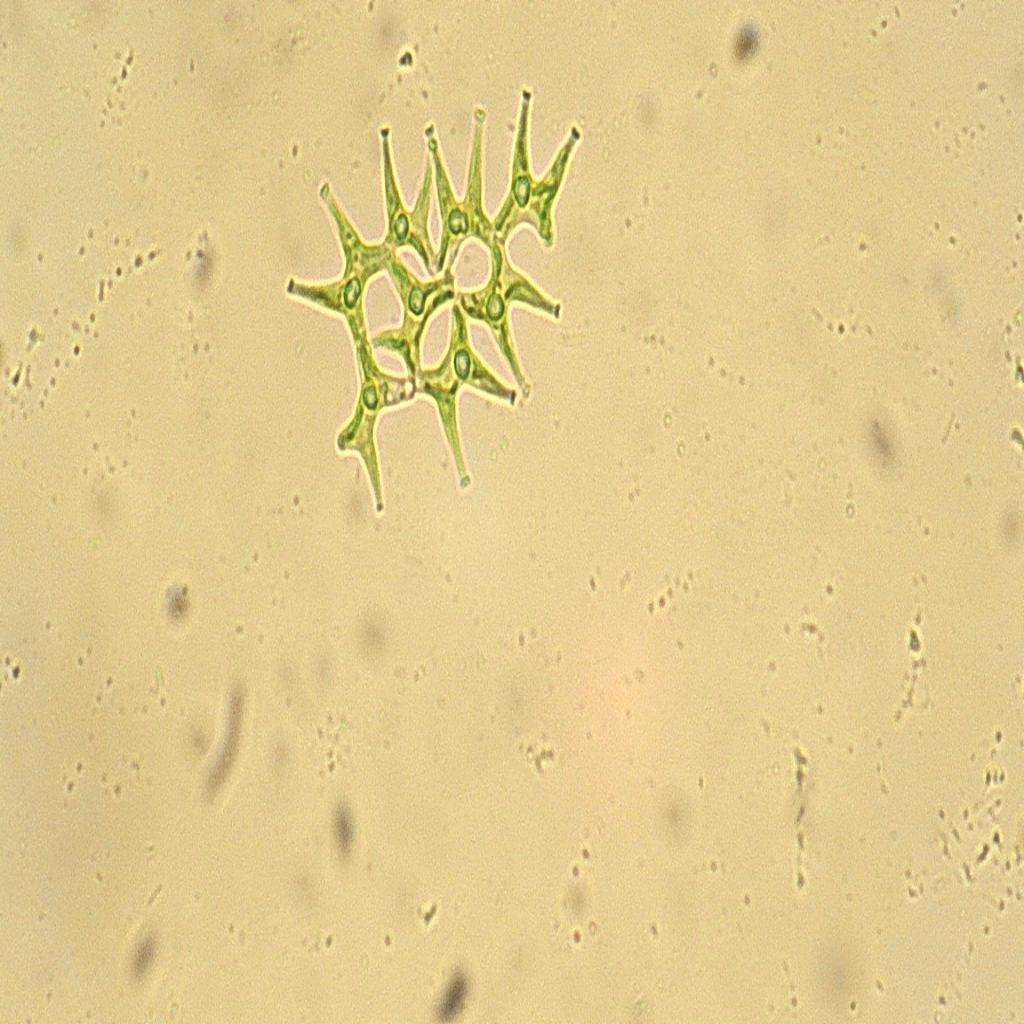Pediastrum_CFI: (276, 79, 616, 528)
